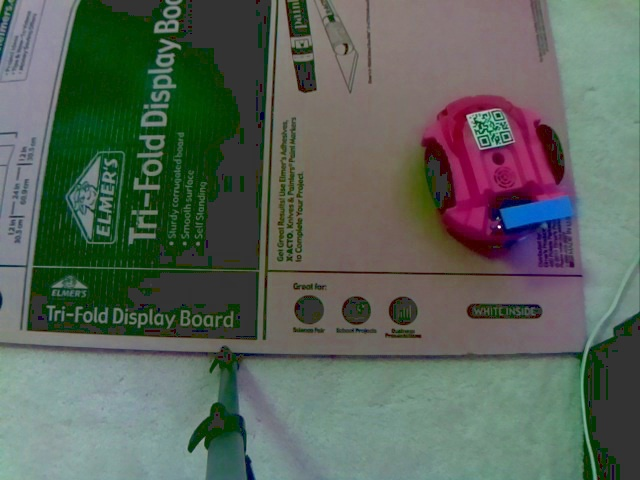board: (485, 188, 578, 239)
chassis: (416, 90, 579, 253)
